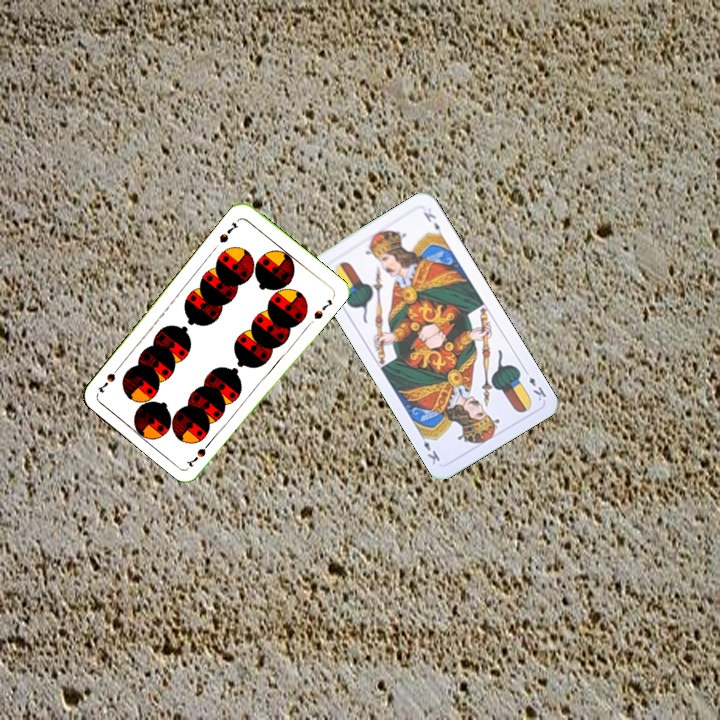EK: (520, 365, 549, 404)
S7: (184, 435, 215, 470), (215, 218, 240, 246)
